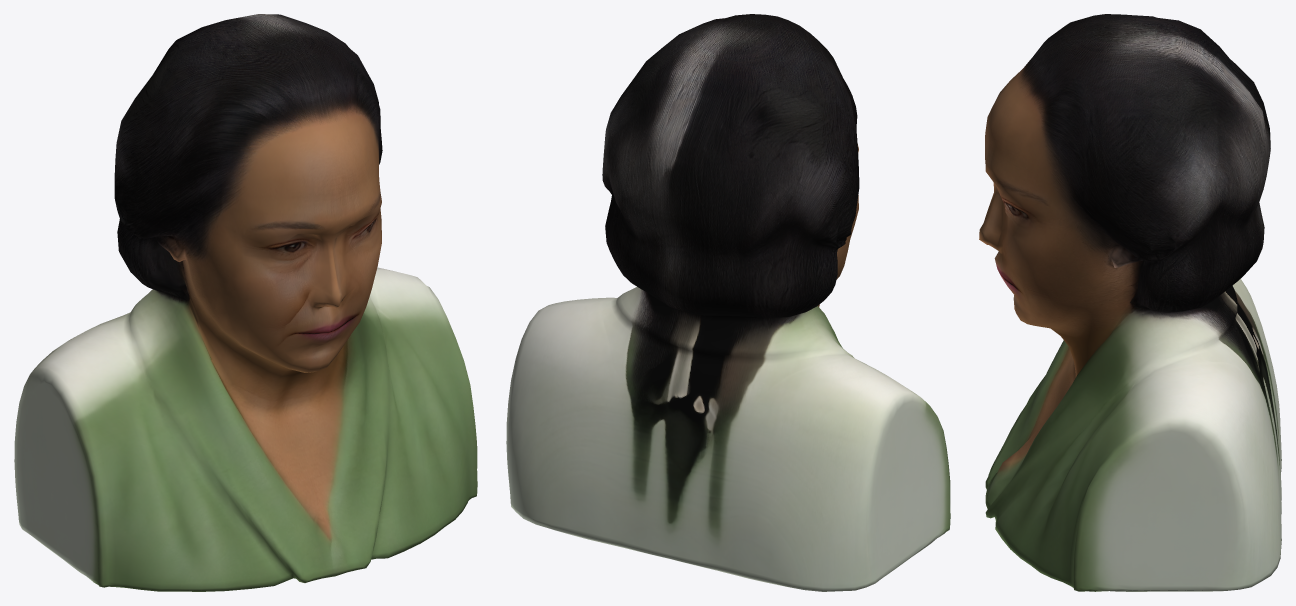
The model's file is dewisartika.glb.
3 renders of one model, left to right at view 1: azimuth 30°, elevation 25°; view 2: azimuth 150°, elevation 25°; view 3: azimuth 270°, elevation 25°, orthographic. The views are drawn at different scales.
Parts seen in each view (by area): view 1: model; view 2: model; view 3: model.
Part boxes in pixels (left/top/right/bottom): model: left=14, top=14, right=477, bottom=591; model: left=506, top=14, right=950, bottom=591; model: left=979, top=14, right=1281, bottom=591.
Size of the model in its own units: 1.53 by 1.9 by 1.1.
1 material, 1 textured.
